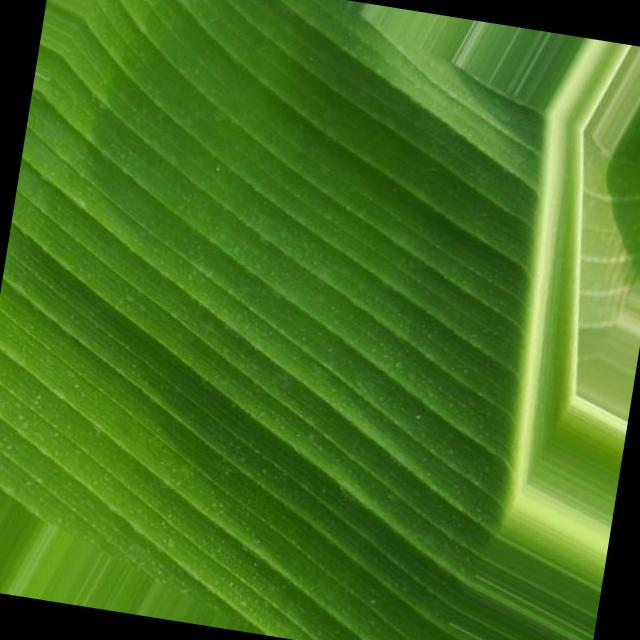Banana_Healthy: (15, 7, 509, 520)
